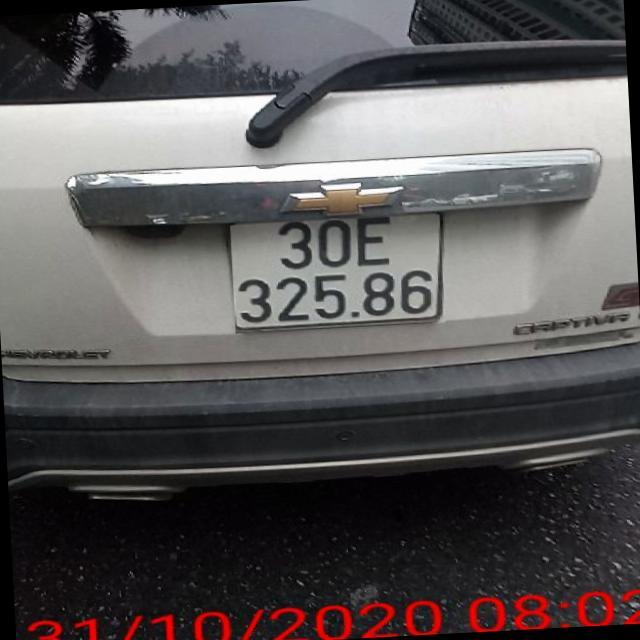car: (0, 0, 640, 530)
plate: (223, 207, 451, 332)
